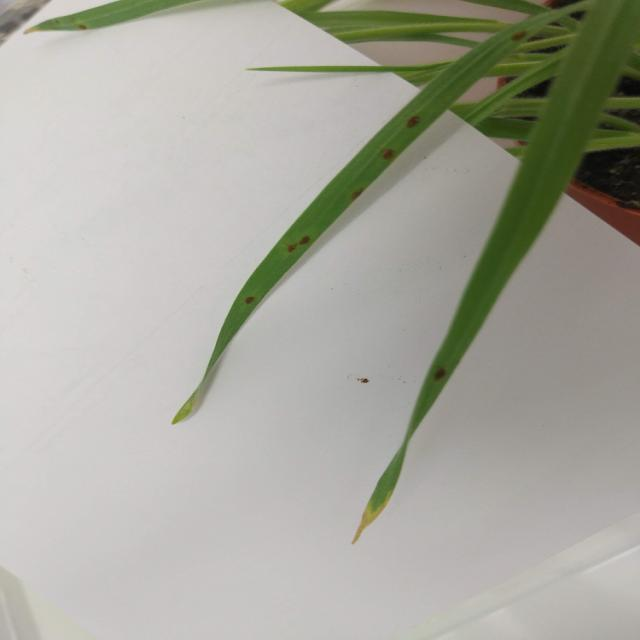wheat-stemrust: (226, 95, 436, 332)
